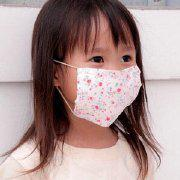OK: (62, 45, 140, 128)
